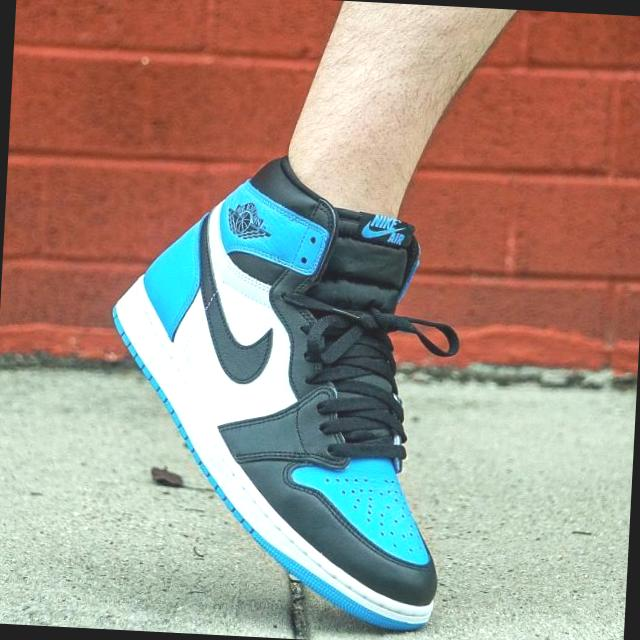nike_original_jordan: (90, 164, 467, 631)
